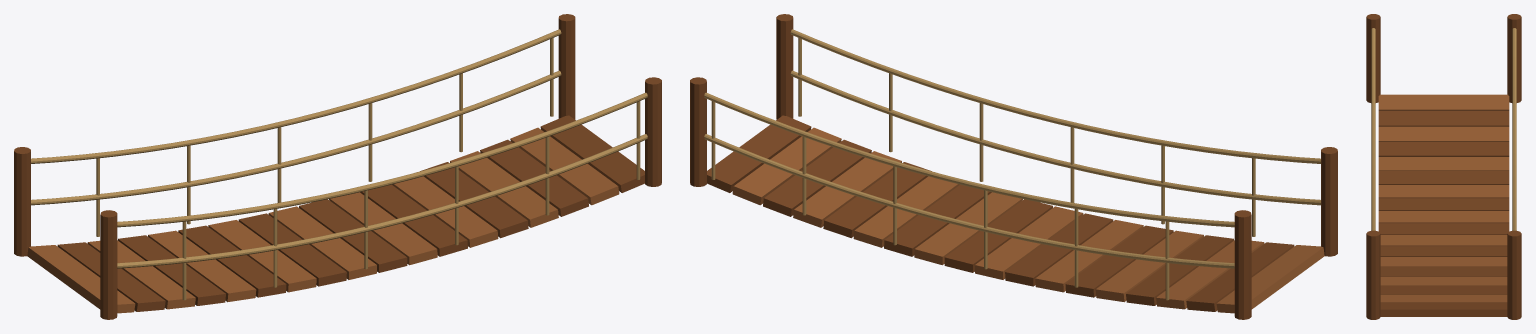
File: bridge.glb
3 views of the same model, side by side, from view 1: azimuth 30°, elevation 25°; view 2: azimuth 150°, elevation 25°; view 3: azimuth 270°, elevation 25° (orthographic). The views are drawn at different scales.
Parts seen in each view (by area): view 1: bridge; view 2: bridge; view 3: bridge.
Boxes of the visible parts, box(x1,y1,x2,y2) form: bridge: box(14, 14, 661, 319); bridge: box(690, 14, 1337, 319); bridge: box(1366, 14, 1521, 319).
Size of the model in its own units: 4.1 by 0.9005 by 1.21.
